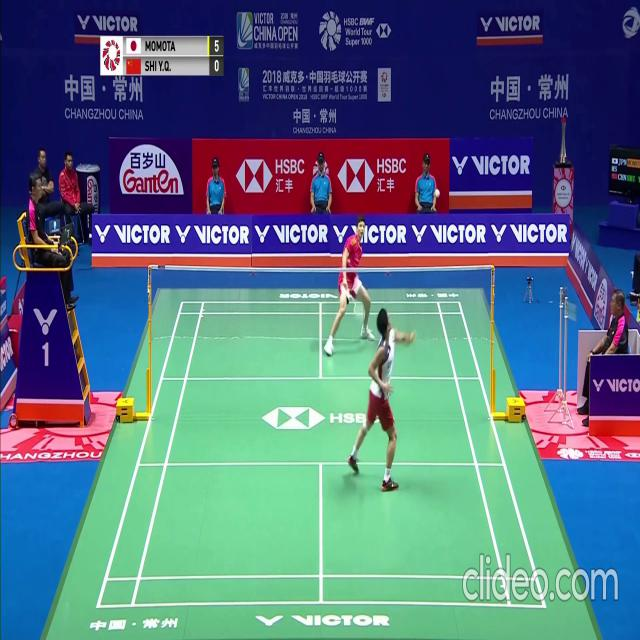Shuttlecock: (435, 189, 440, 197)
